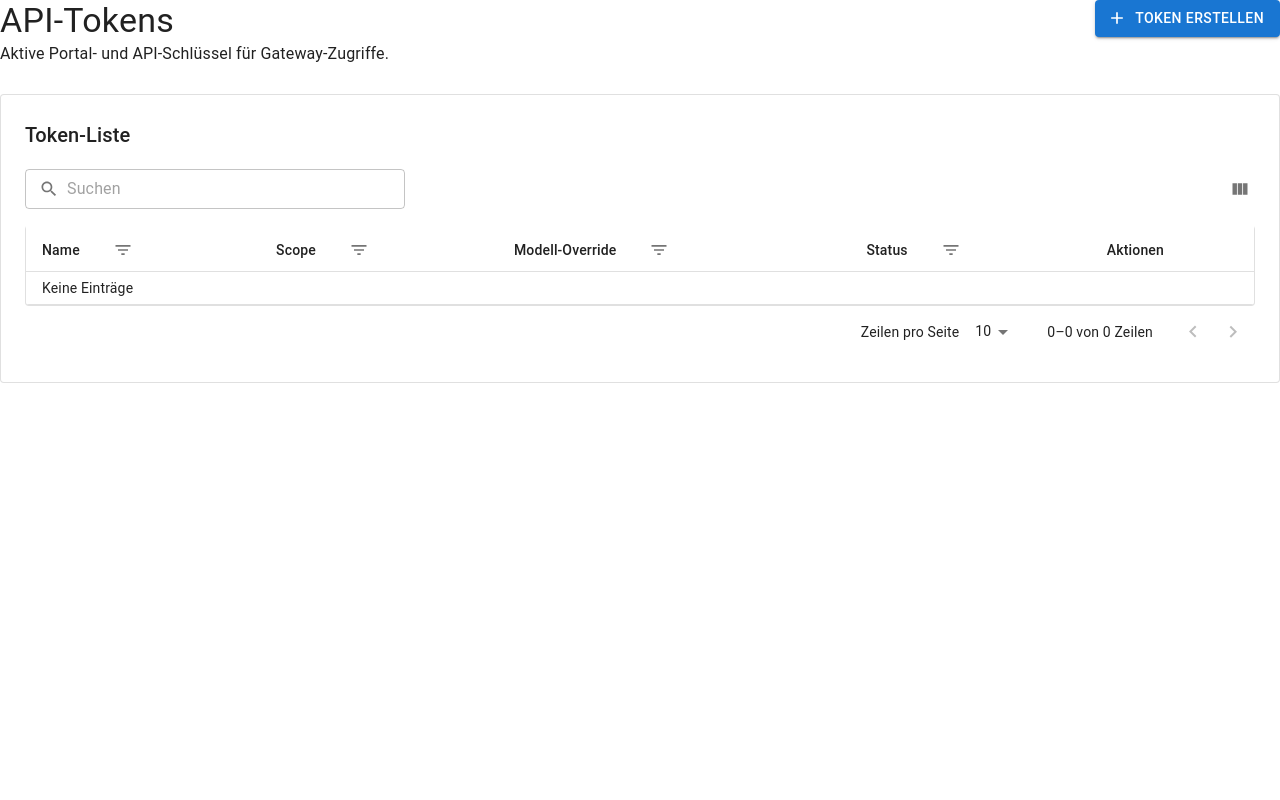
disables submit while a mapping row is half-filled and re-enables once completed
The width and height of the screenshot is (1280, 800).
Click the button "Token erstellen". click: click(1188, 18)
box: [1095,0,1279,36]
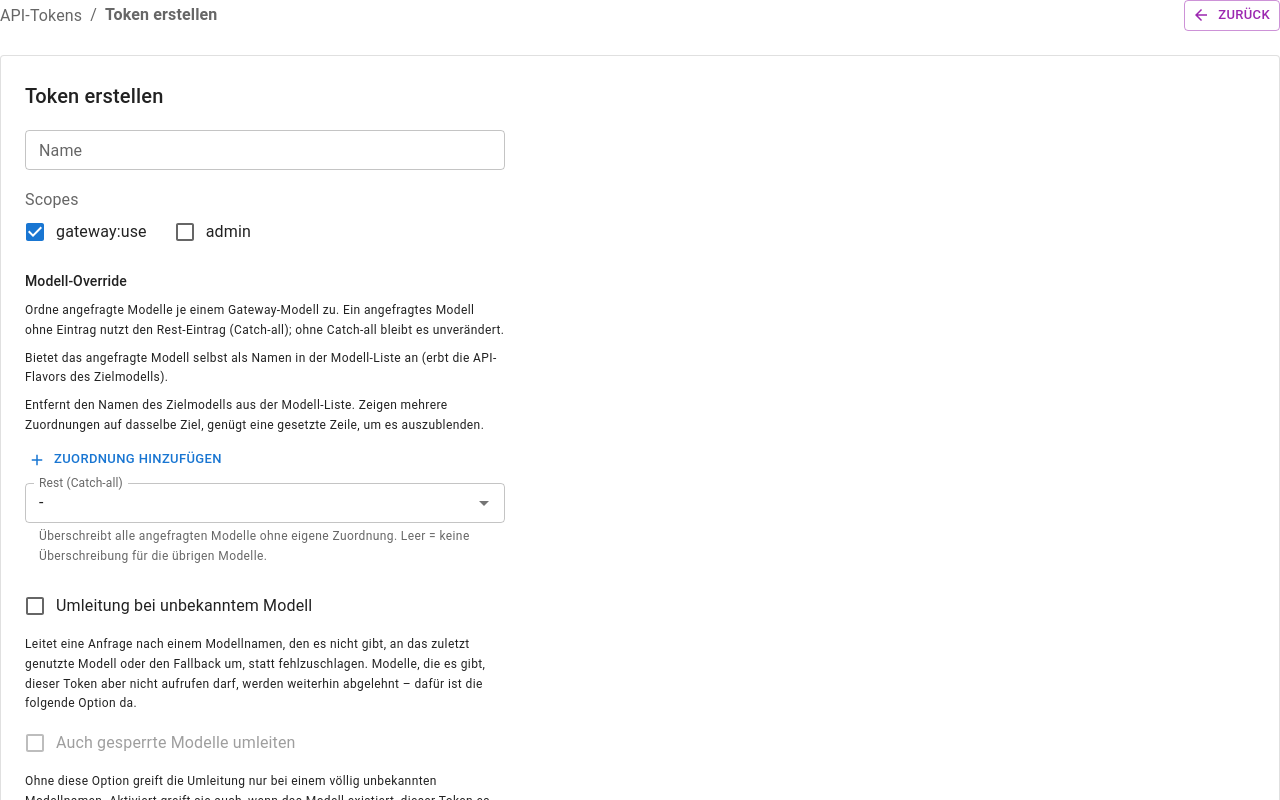
Click the button "Zuordnung hinzufügen". click: click(126, 460)
box: [25,444,227,475]
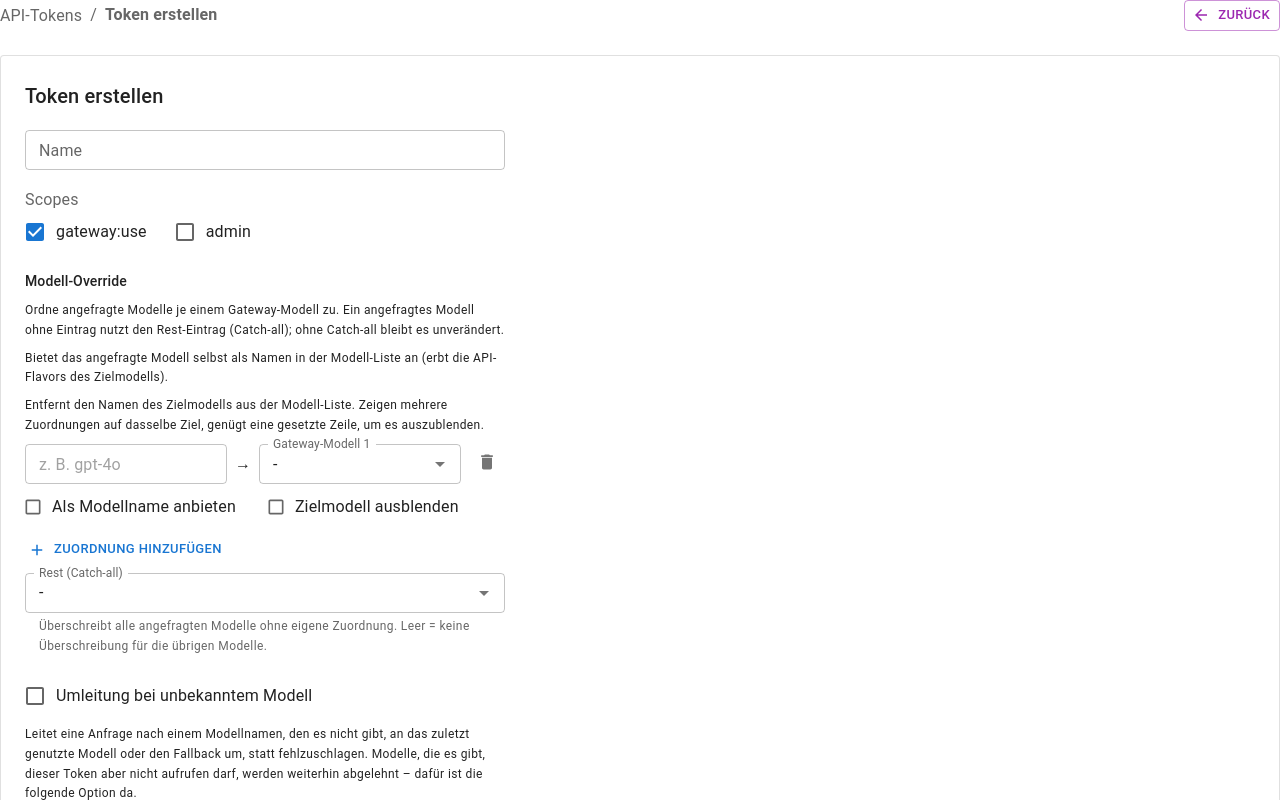
Type "gpt-4o" into the field with placeholder "z. B. gpt-4o". click: (126, 464)
box: [25,444,227,484]
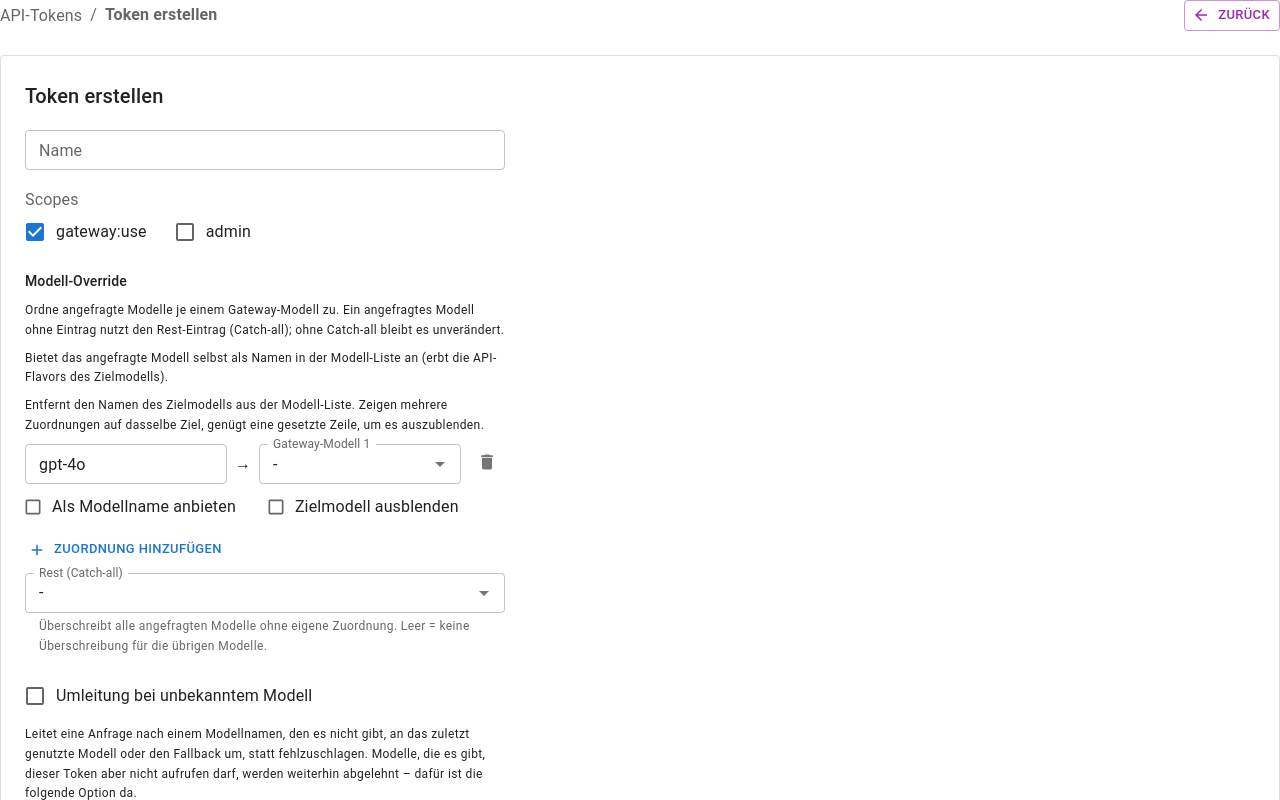
Press the mouse on the dropdown labelled "Gateway-Modell 1" at (331, 464), box [265,450,396,478]
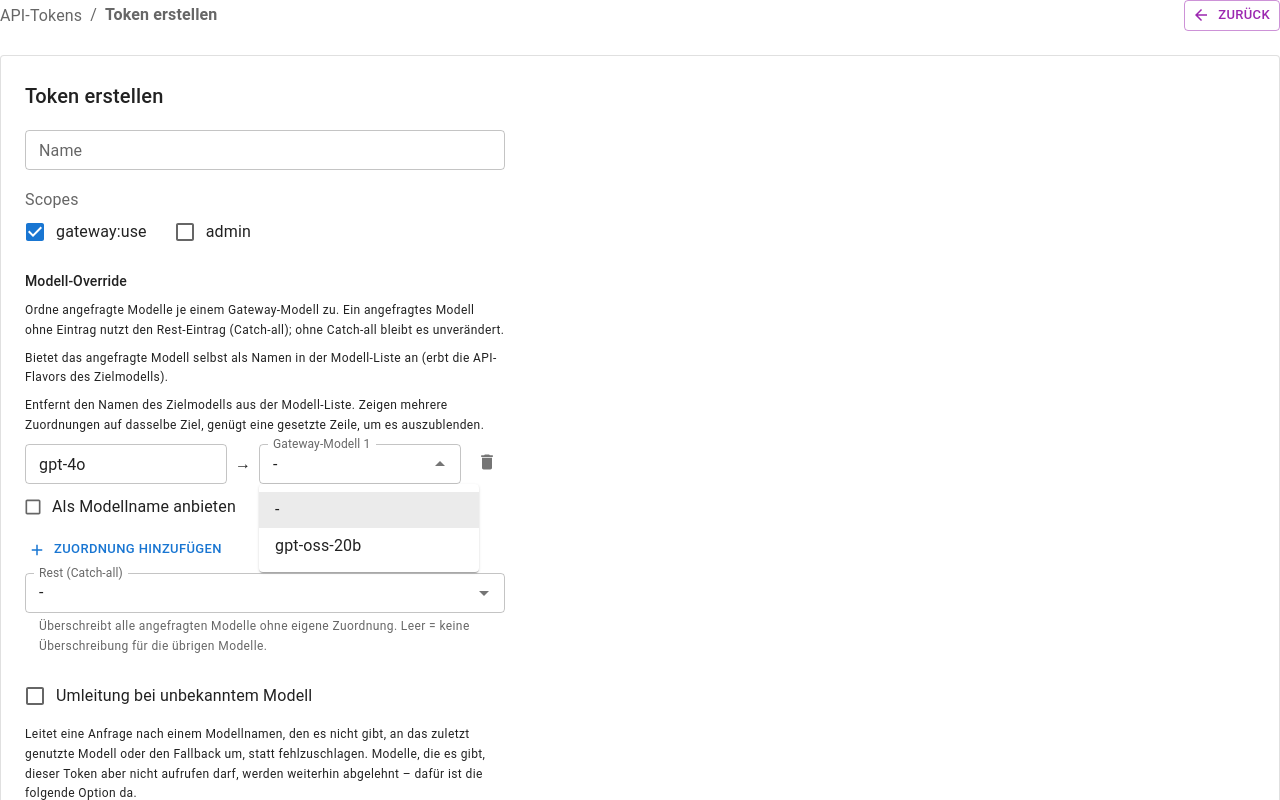
Click the option "gpt-oss-20b". click: click(318, 546)
box: [275,536,361,555]
(page scrolled)
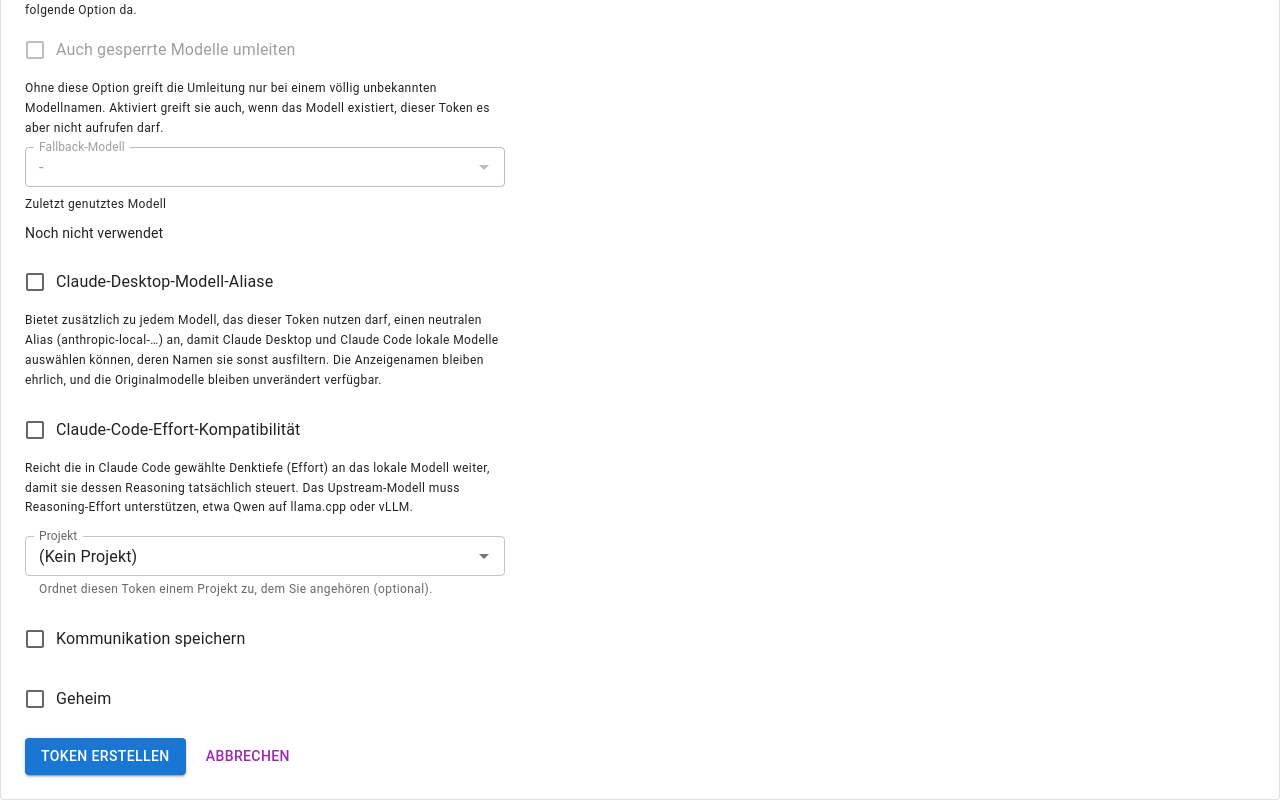
expect the button "Token erstellen" is enabled: met, box [25,738,186,775]
